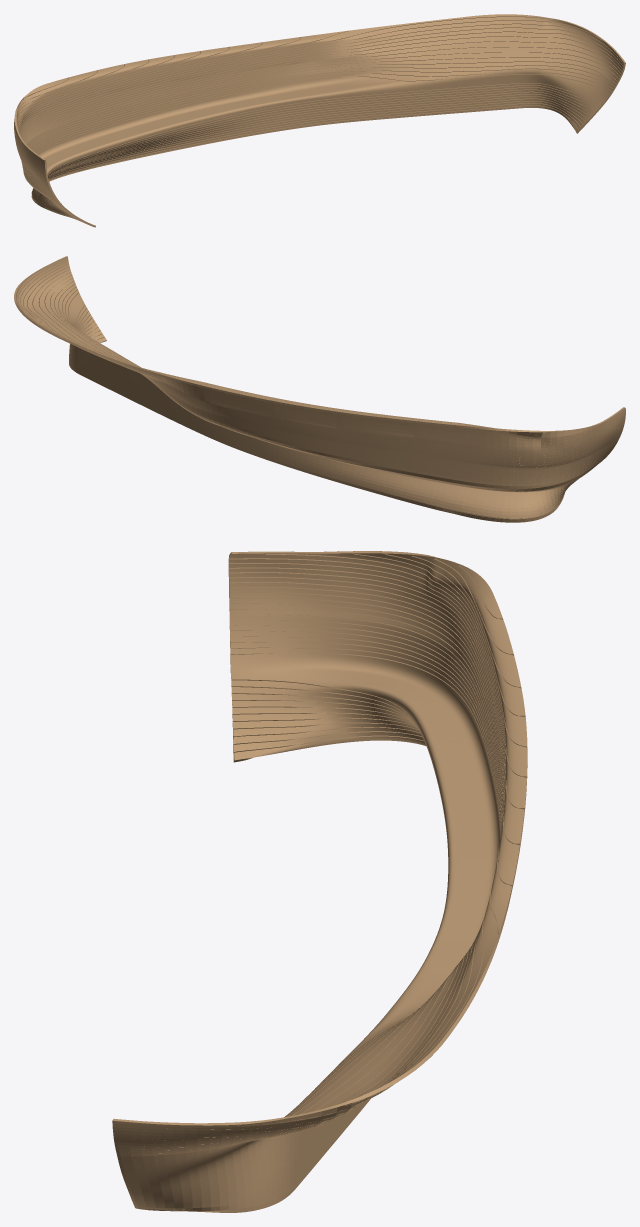
The model's file is bench_B.glb.
3 views of the same model, one above another, from view 1: azimuth 30°, elevation 25°; view 2: azimuth 150°, elevation 25°; view 3: azimuth 270°, elevation 25° (orthographic). The views are drawn at different scales.
Parts seen in each view (by area): view 1: bench_B; view 2: bench_B; view 3: bench_B.
Part boxes in pixels (x1,y1,x2,y2): bench_B: [14, 14, 625, 227]; bench_B: [14, 256, 625, 522]; bench_B: [112, 551, 527, 1212].
Bounding box in the file's own units: 10.18 × 1.62 × 3.28.
